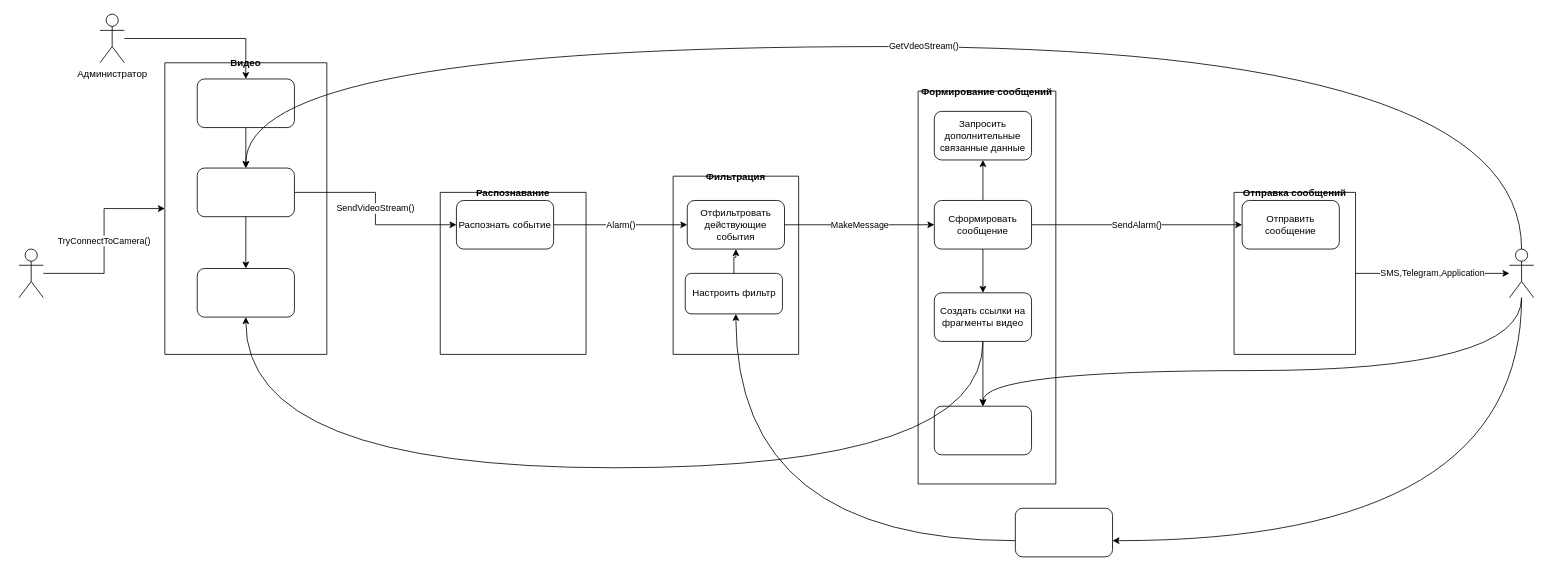
Some shapes in this 1551 by 571 pixel diagram are drawn without their labels. The centre of each missing label's shape, as x and y in pixels:
Камера: (x=30, y=273)
Клиент: (x=1521, y=273)
Настроить источники: (x=245, y=103)
Получить видео: (x=245, y=192)
Сохранить видео в репозиторий: (x=245, y=292)
Сохранить настройки: (x=1064, y=532)
Сохранить отрывок в репозиторий: (x=983, y=430)
